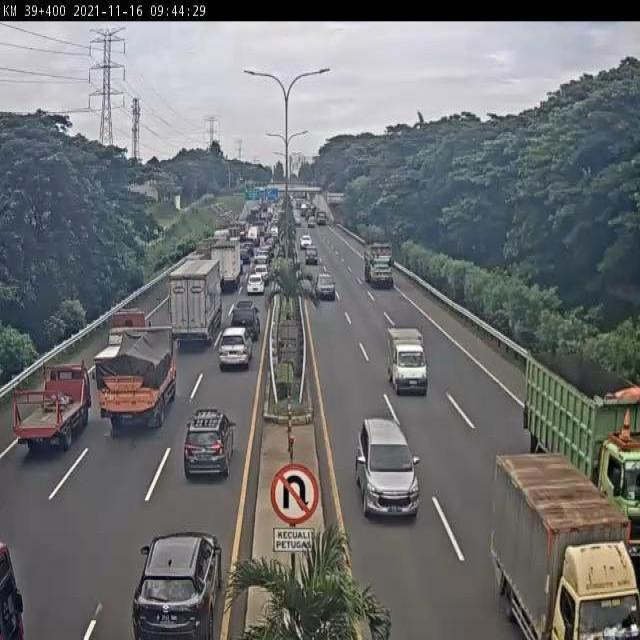car: (131, 530, 223, 640), (355, 419, 420, 519), (184, 407, 235, 477), (218, 329, 250, 372), (231, 302, 259, 342), (315, 272, 336, 299), (245, 276, 264, 296)
truck: (493, 456, 640, 640), (526, 351, 640, 559), (97, 325, 177, 432), (12, 363, 94, 448), (167, 263, 218, 347), (94, 311, 152, 371), (387, 328, 428, 395), (210, 244, 239, 289)
